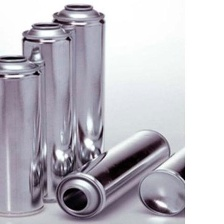aerosol_cans: (52, 122, 172, 221), (49, 2, 109, 183), (19, 19, 77, 206), (132, 126, 224, 218), (0, 50, 49, 221)
